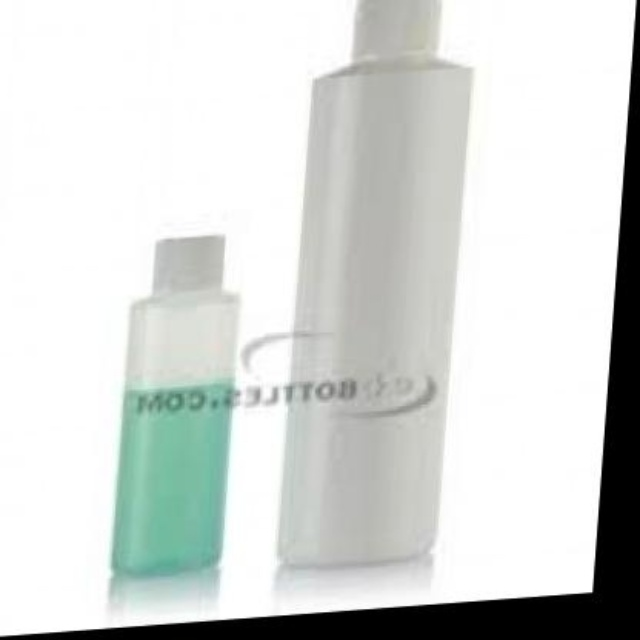trash: (280, 0, 471, 563), (112, 235, 237, 572)
